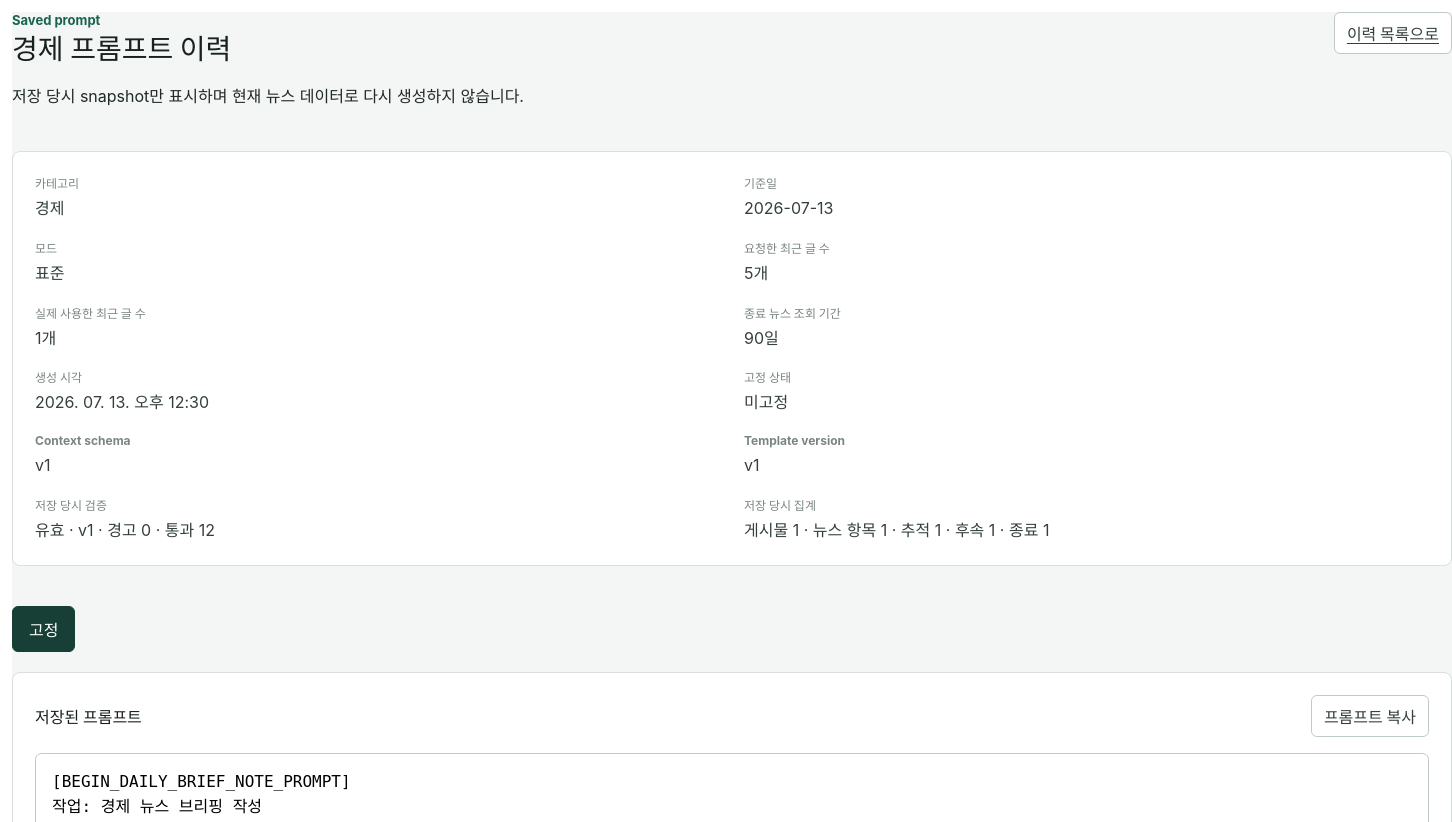
BriefingPromptRunDetailPage › shows a safe pin error
Click the button "고정" at point(44, 629), box [12, 606, 76, 652]
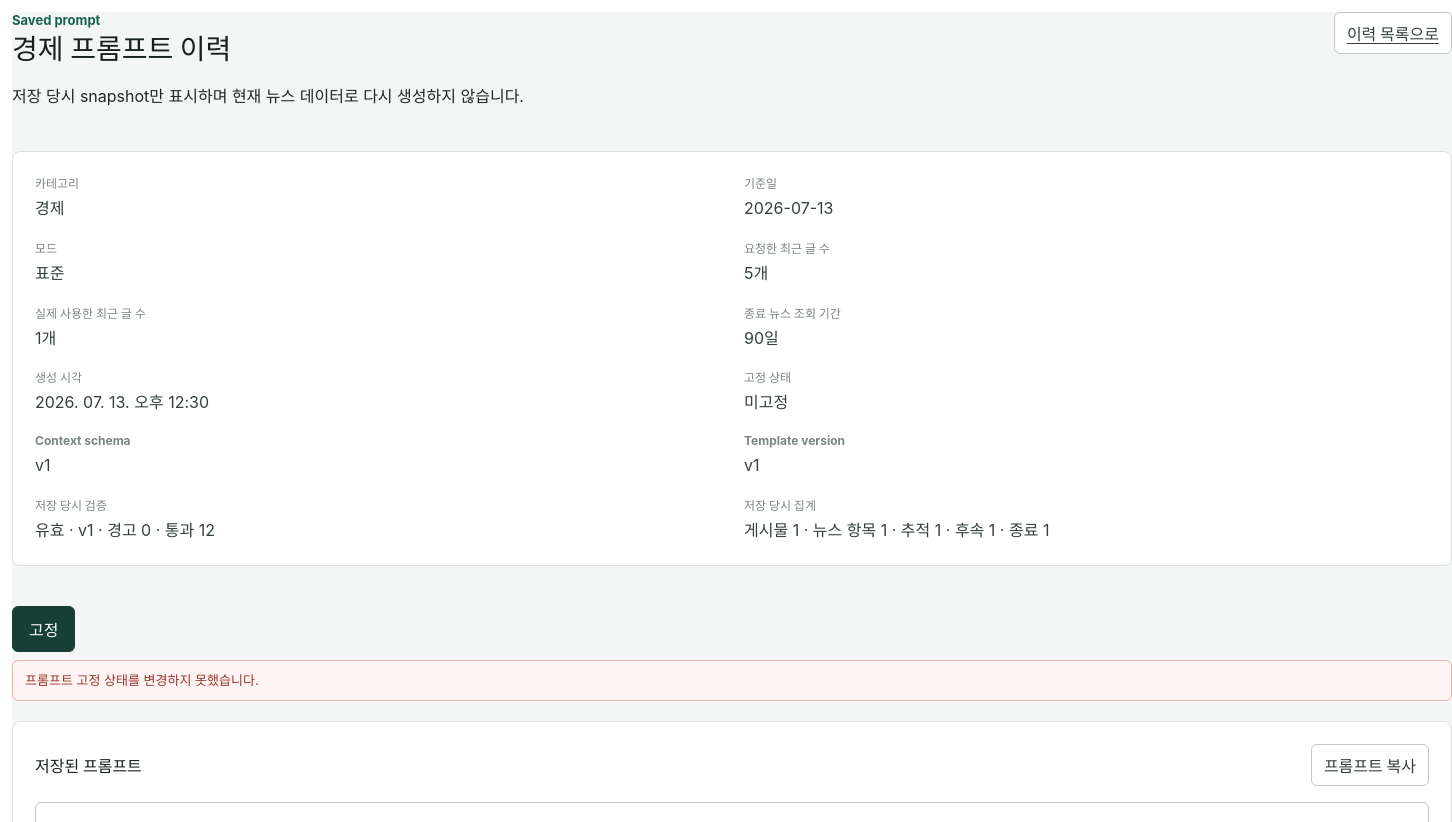
Result: the text "프롬프트 고정 상태를 변경하지 못했습니다." is shown at [12, 660, 1451, 701]
